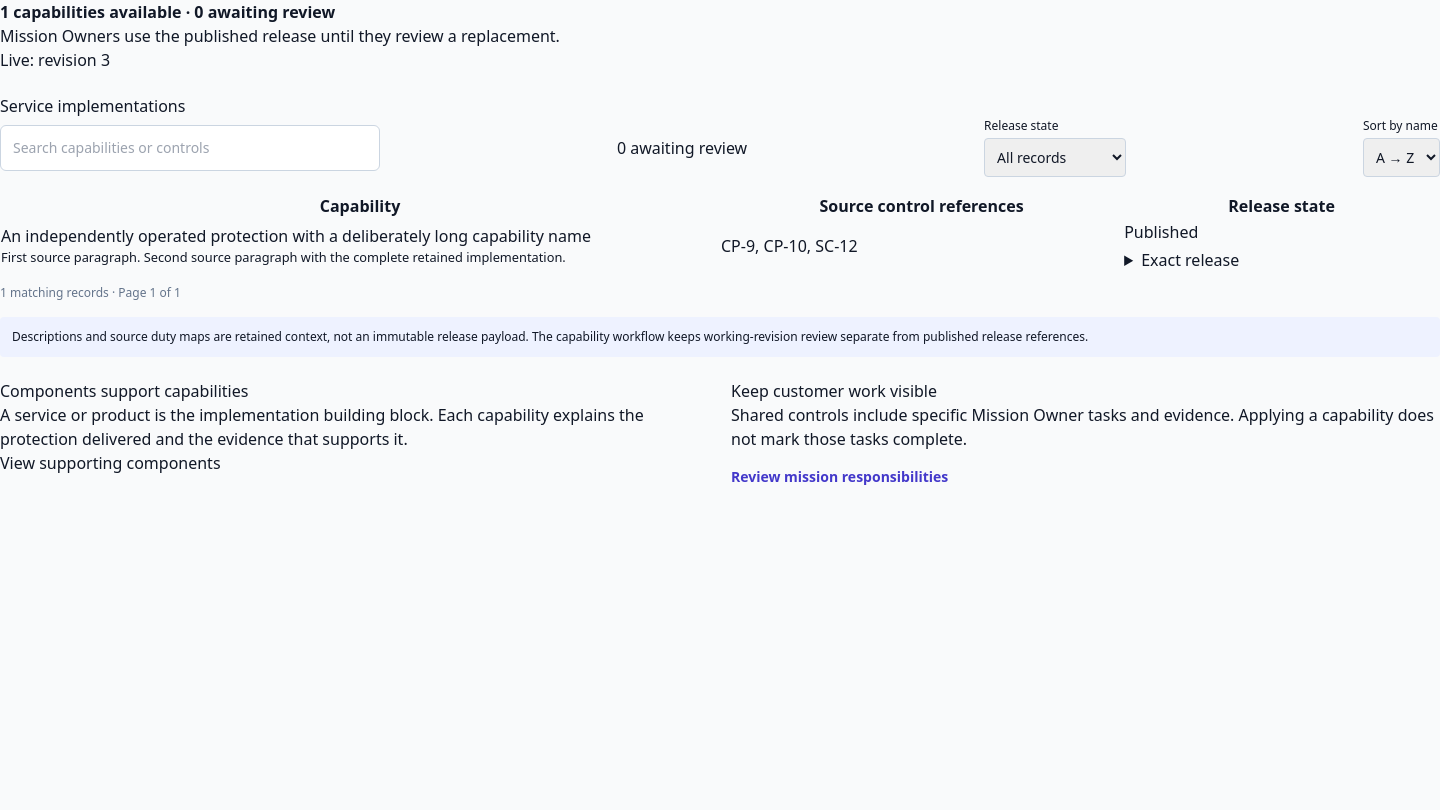
presents the offering implementation drawer with readable sections, exact duty groups and scoped real actions
The width and height of the screenshot is (1440, 810).
Expected: the table named "Service implementations" is shown, [0, 193, 1439, 273]
Click the button "An independently operated protection with a deliberately long capability name": point(296, 236) [1, 224, 591, 248]
(page scrolled)
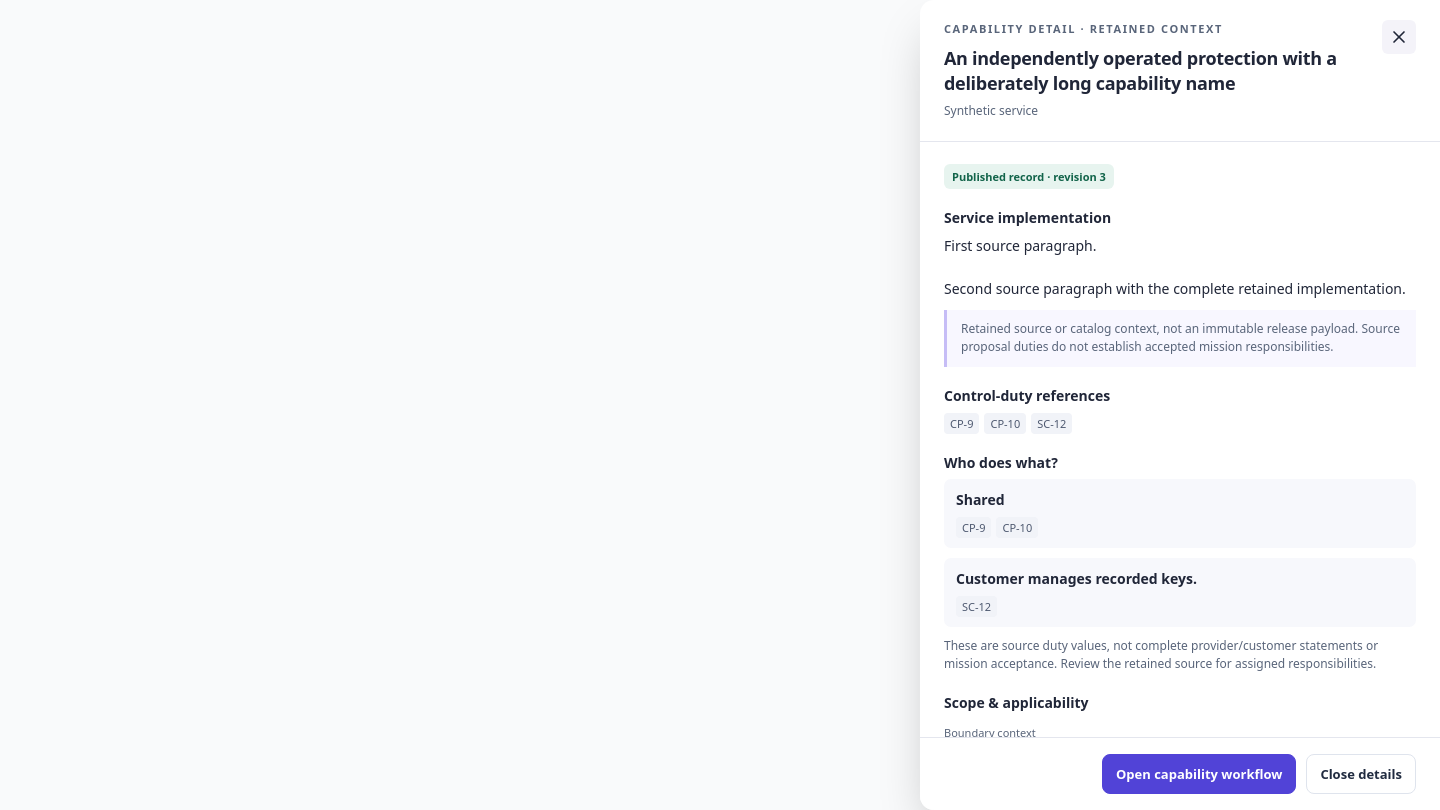
Result: the text "Synthetic service" is shown at [944, 102, 1038, 119]
Result: the element "Shared" shows "CP-9" at [962, 520, 986, 535]
Result: the element "Shared" shows "CP-10" at [1002, 520, 1032, 535]
